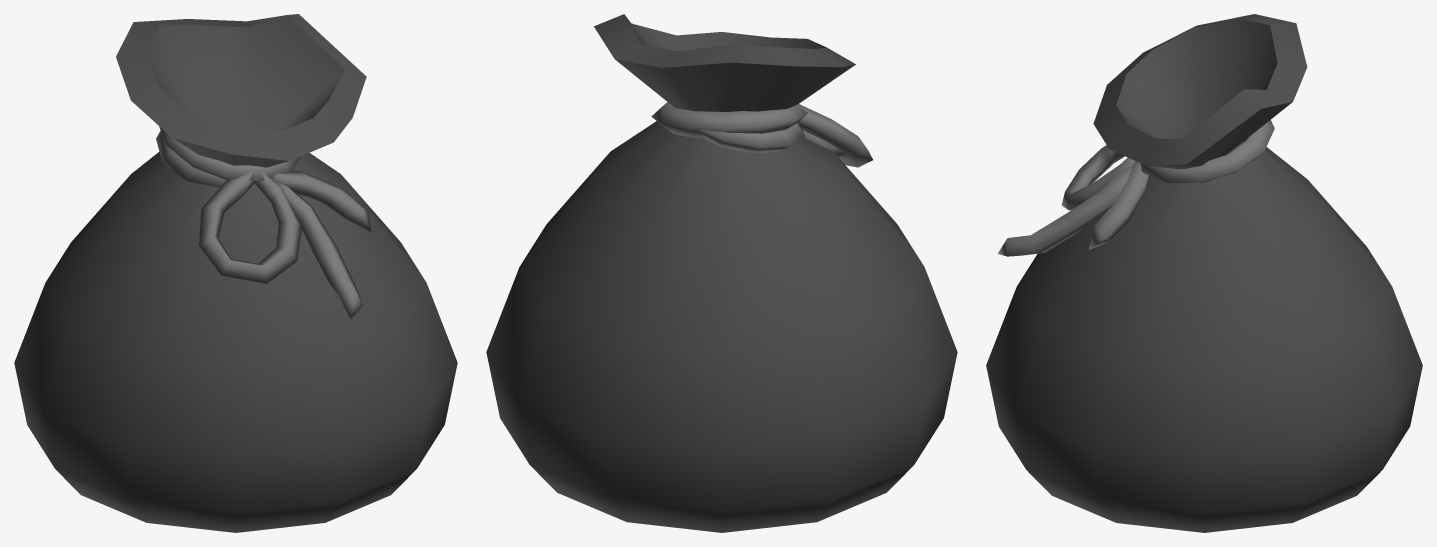
File: Bundle_Black.fbx
The picture shows the model from 3 angles, left to right: view 1: azimuth 30°, elevation 25°; view 2: azimuth 150°, elevation 25°; view 3: azimuth 270°, elevation 25°; orthographic projection. The views are drawn at different scales.
Visible parts, largest first — view 1: Bundle_Black; view 2: Bundle_Black; view 3: Bundle_Black.
Boxes of the visible parts, box(x1,y1,x2,y2) form: Bundle_Black: box(14, 14, 457, 532); Bundle_Black: box(486, 14, 957, 532); Bundle_Black: box(986, 14, 1422, 532).
Bounding box in the file's own units: 24.19 × 25.22 × 24.19.
